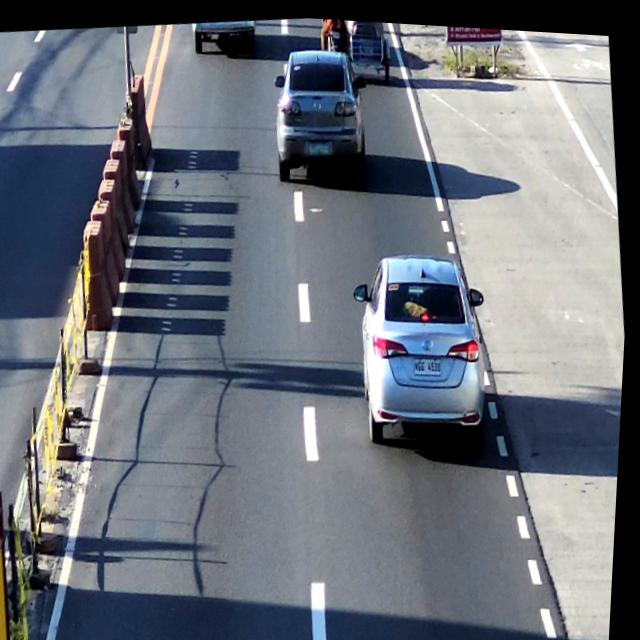Car: (352, 239, 501, 453), (267, 41, 371, 181), (194, 14, 258, 61)
License-Plate: (415, 347, 447, 375), (308, 138, 333, 154)
Tricycle: (316, 15, 396, 74)
